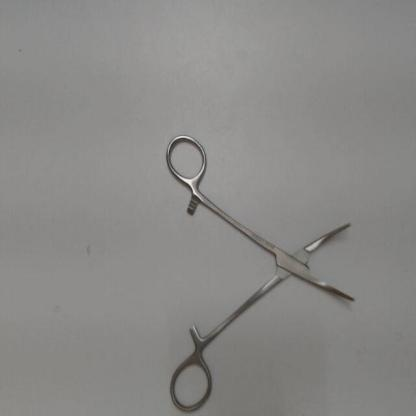Crile Artery Forceps: (161, 129, 359, 414)
